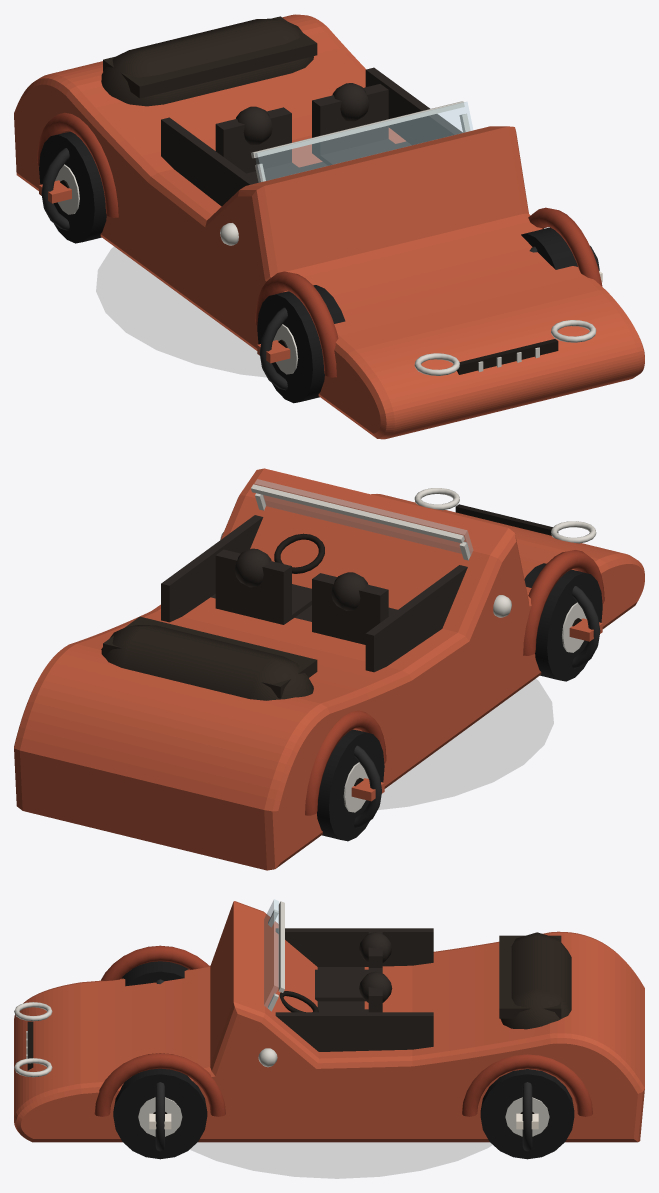
Rendered from roadster.glb.
3 renders of one model, top to bottom at view 1: azimuth 30°, elevation 25°; view 2: azimuth 150°, elevation 25°; view 3: azimuth 270°, elevation 25°, orthographic. The views are drawn at different scales.
Visible parts, largest first — view 1: body, wheel (×3), MelvynRoadster; view 2: body, wheel (×2), MelvynRoadster, steering; view 3: body, wheel (×3), MelvynRoadster.
Boxes of the visible parts, <box> form: body: <box>14,14,644,439</box>; wheel (×3): <box>39,131,602,403</box>; MelvynRoadster: <box>96,247,265,376</box>; body: <box>14,468,644,870</box>; wheel (×2): <box>317,563,602,841</box>; MelvynRoadster: <box>378,679,553,809</box>; steering: <box>274,533,324,573</box>; body: <box>14,899,644,1142</box>; wheel (×3): <box>113,961,574,1159</box>; MelvynRoadster: <box>190,1143,491,1178</box>.
Bounding box in the file's own units: 2.8 × 1.26 × 4.57.
